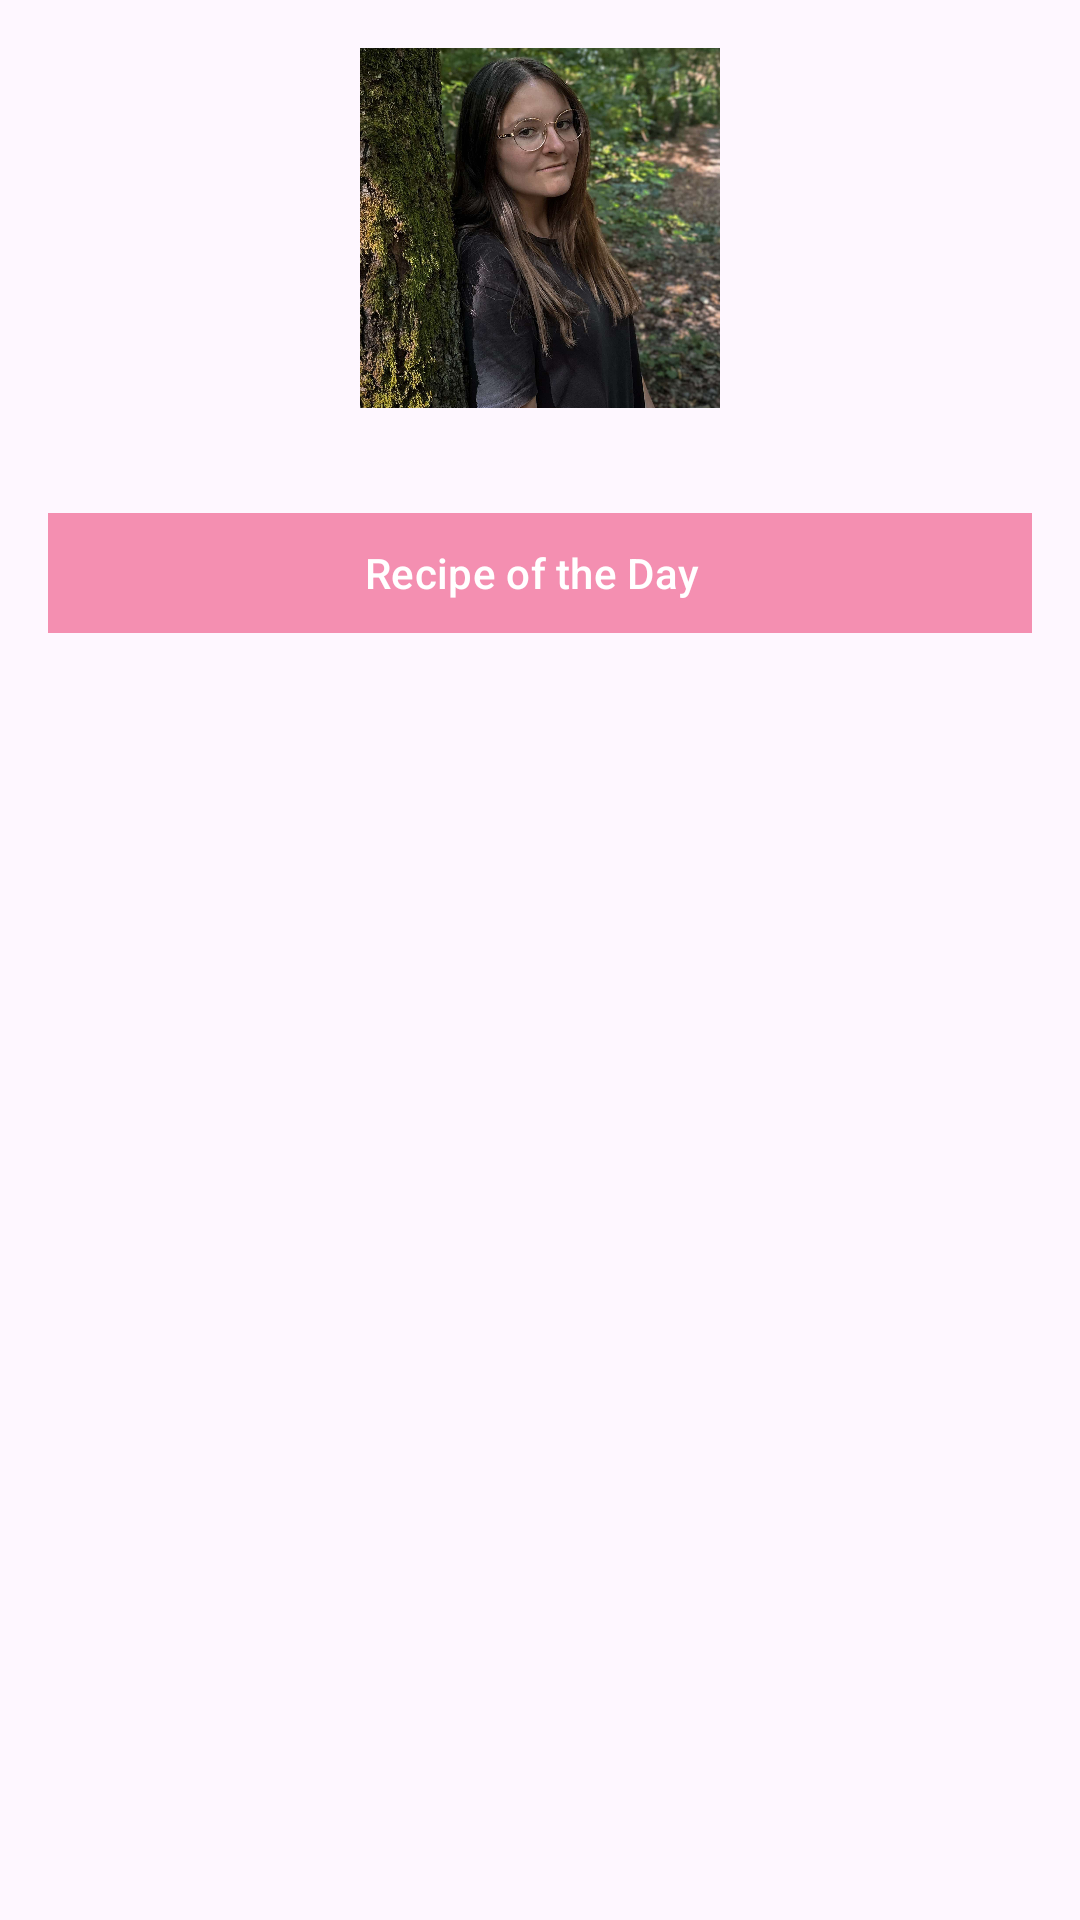

Locate icon controls on the screen. Image size 1080x1920, boxes as {"x1": x1, "y1": y1, "x2": x2, "y2": y2}.
Profile Image: {"x1": 360, "y1": 48, "x2": 720, "y2": 408}
